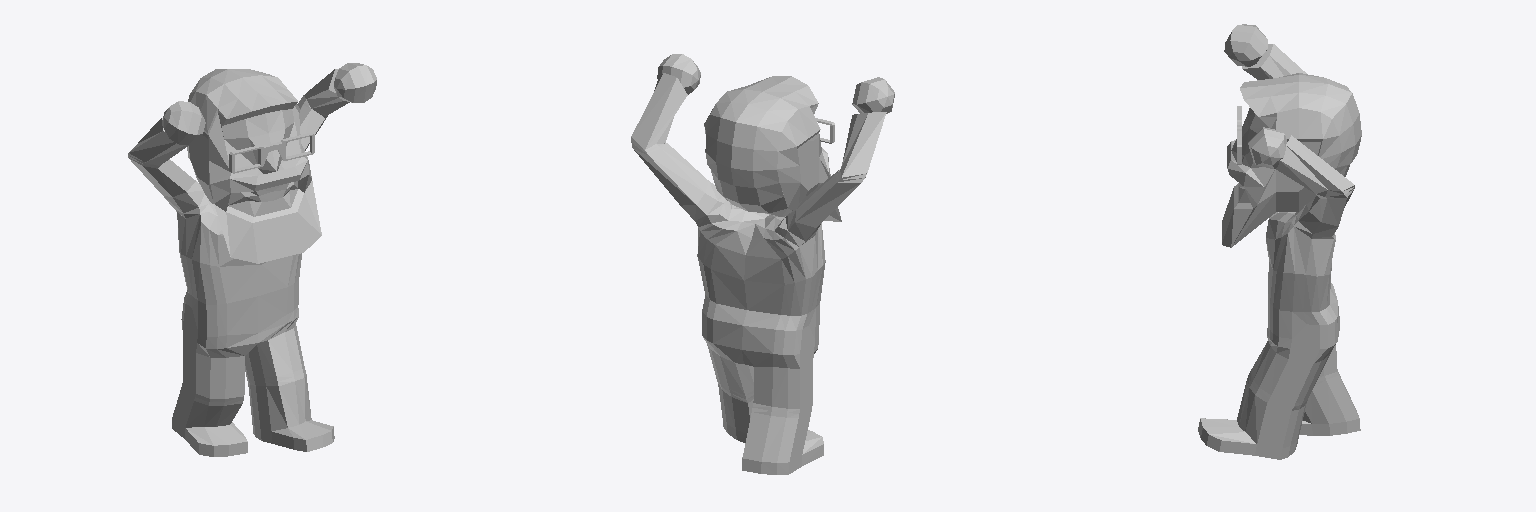
The model's file is brendo2.obj.
3 views of the same model, side by side, from view 1: azimuth 30°, elevation 25°; view 2: azimuth 150°, elevation 25°; view 3: azimuth 270°, elevation 25° (orthographic).
Visible parts, largest first — view 1: Dude_Cube; view 2: Dude_Cube; view 3: Dude_Cube.
Part boxes in pixels (left/top/right/bottom): Dude_Cube: left=128, top=63, right=376, bottom=456; Dude_Cube: left=631, top=54, right=894, bottom=474; Dude_Cube: left=1198, top=24, right=1361, bottom=459.
Bounding box in the file's own units: 0.1136 × 0.1774 × 0.0712.